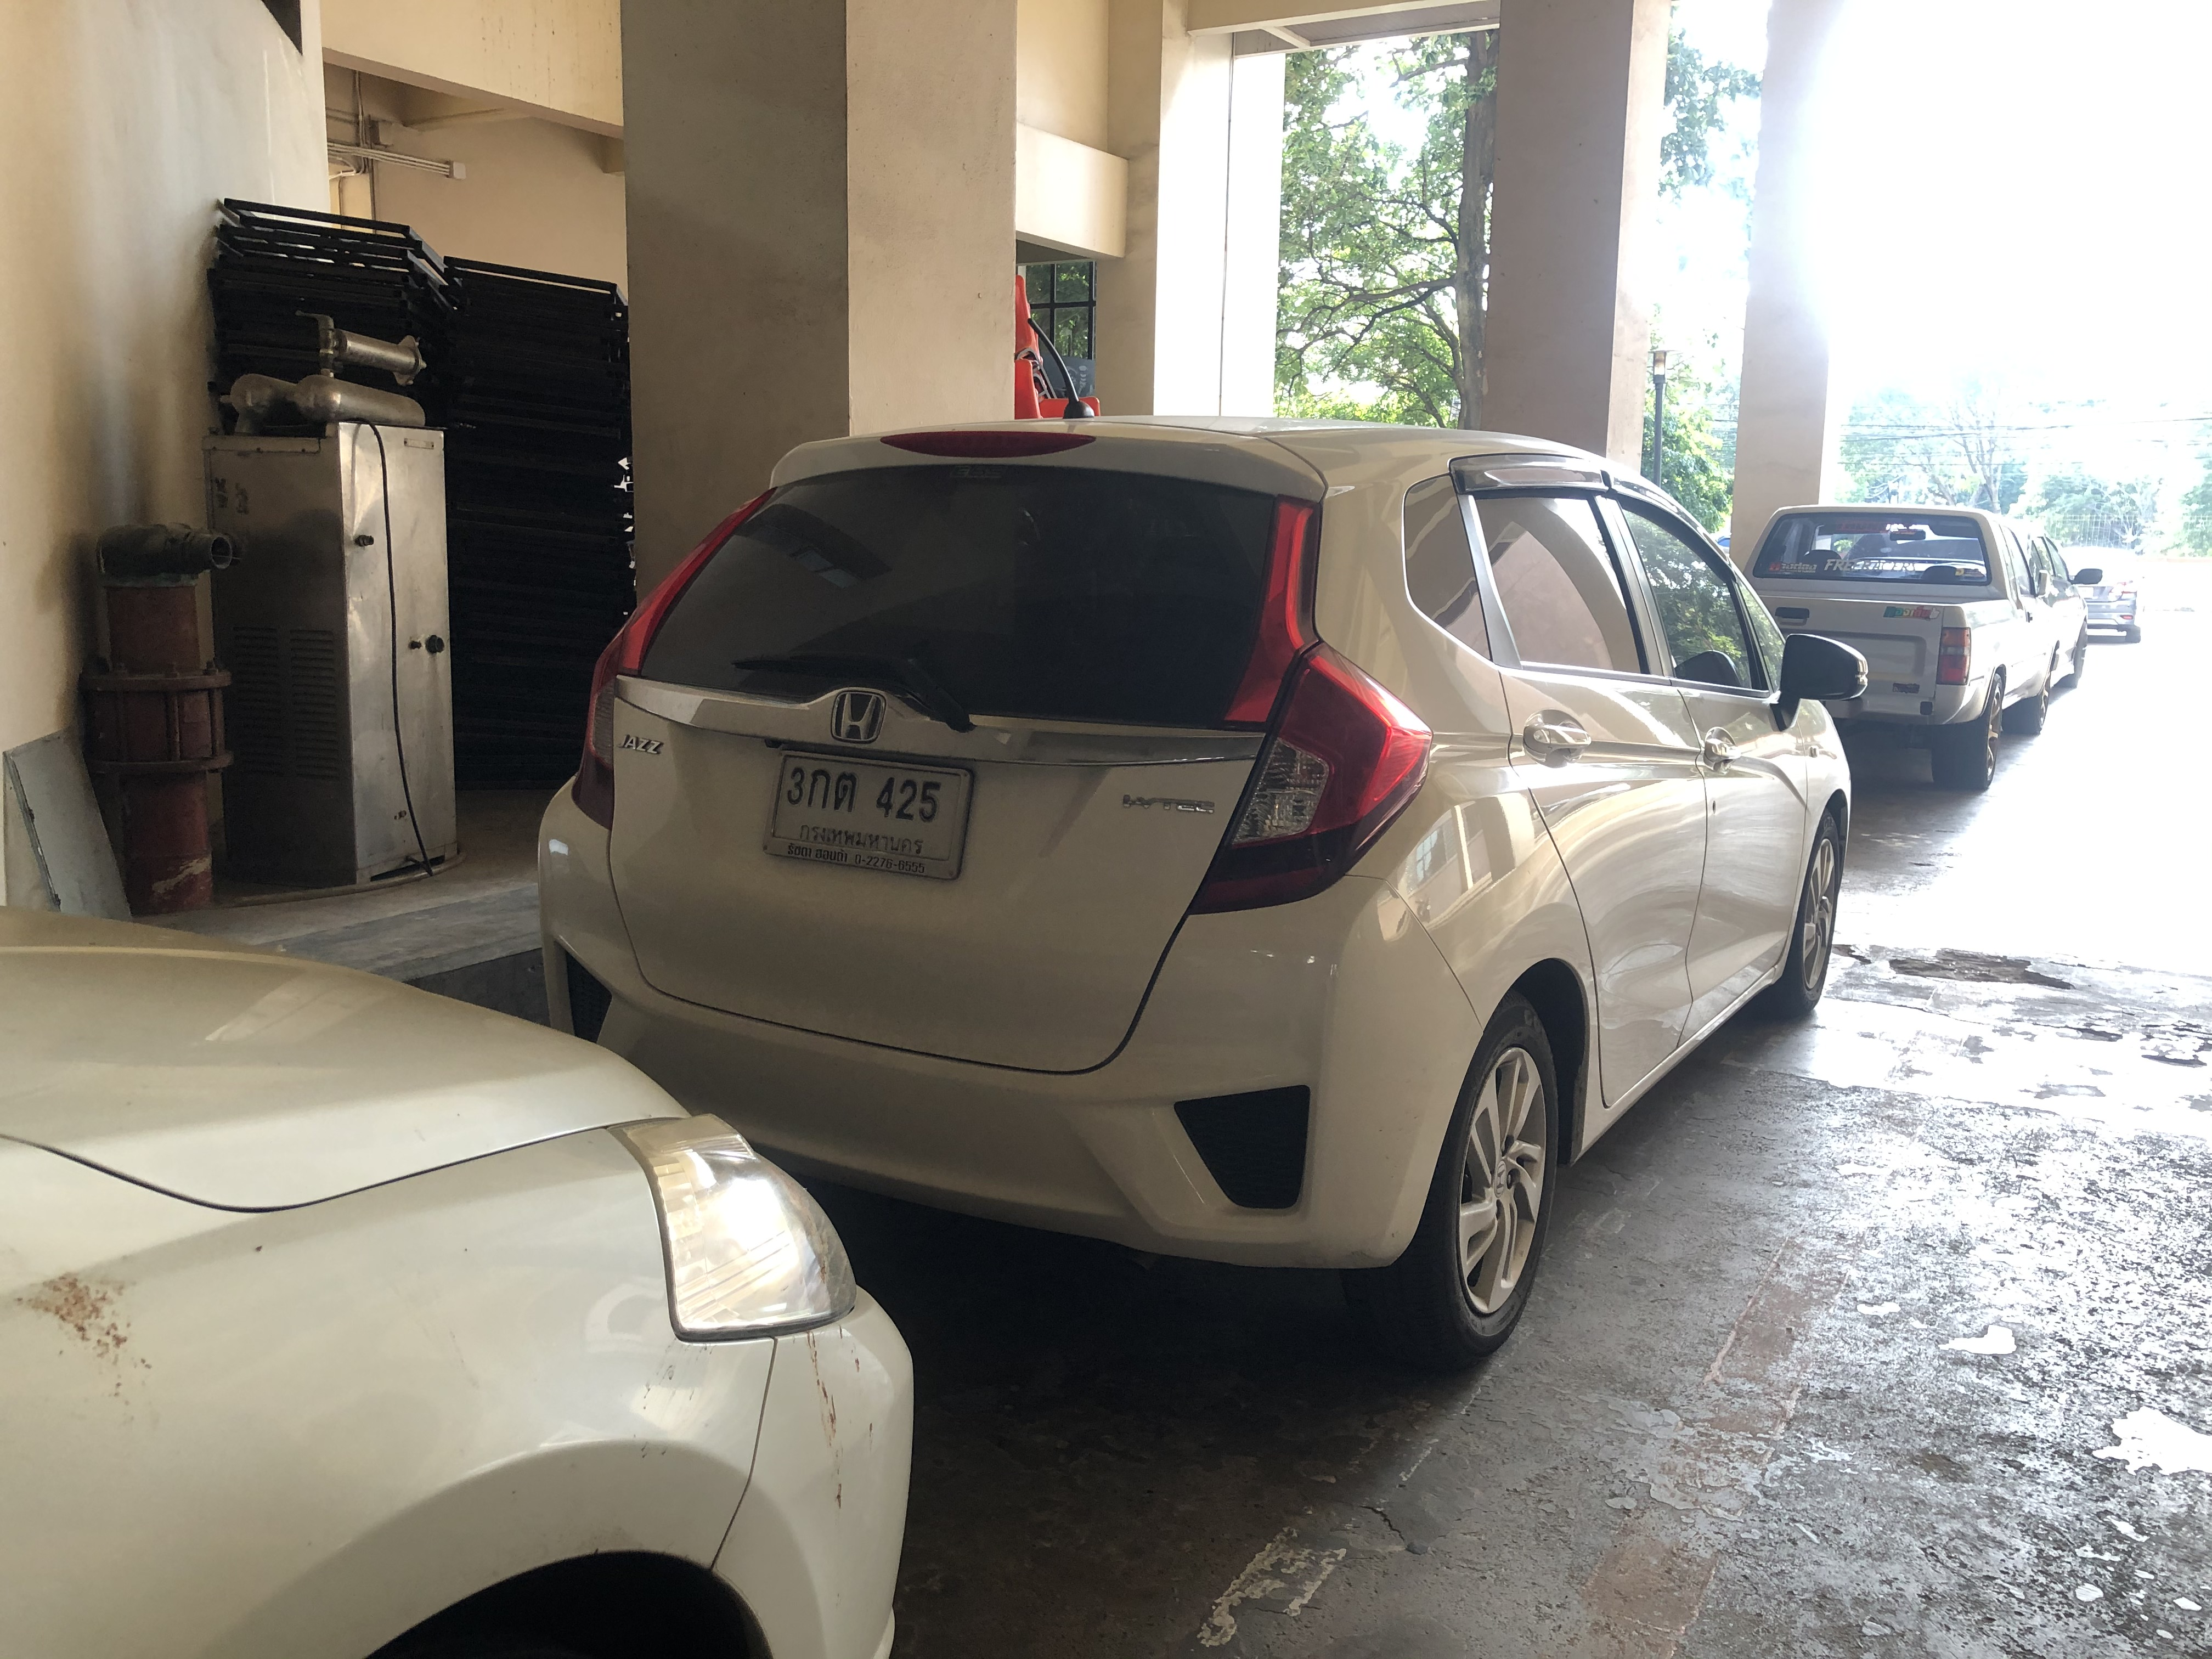in: (770, 753, 958, 861)
out: (761, 746, 975, 884)
